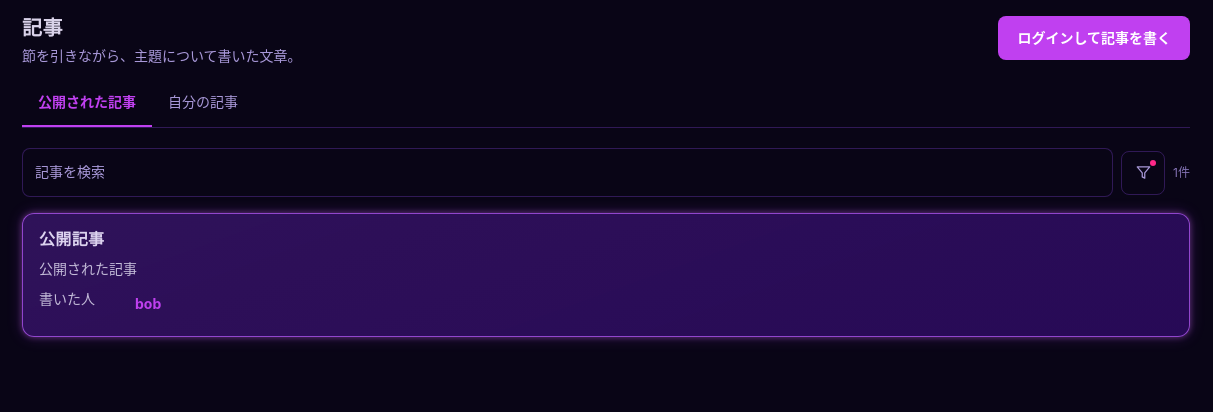
Scenario: 記事一覧 › 書と主題は URL で持ち、漏斗のボタンの中で選ばれているものが分かる
What coordinates should you click on to do the following:
click the button named "絞り込み"
I would click on:
 (1143, 173)
Its box is [1121,151,1165,195].
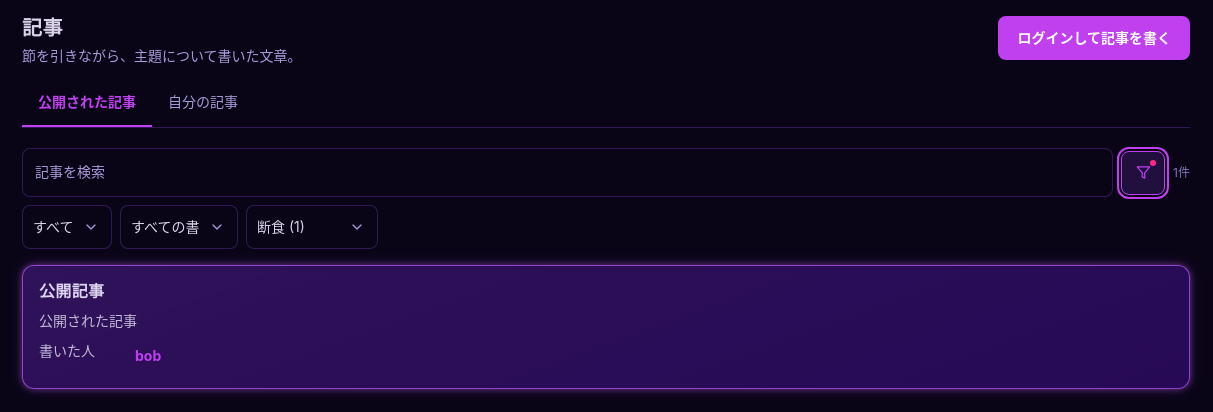
Now the dropdown named "記事の主題" shows "断食 (1)", box [246,205,378,249]
